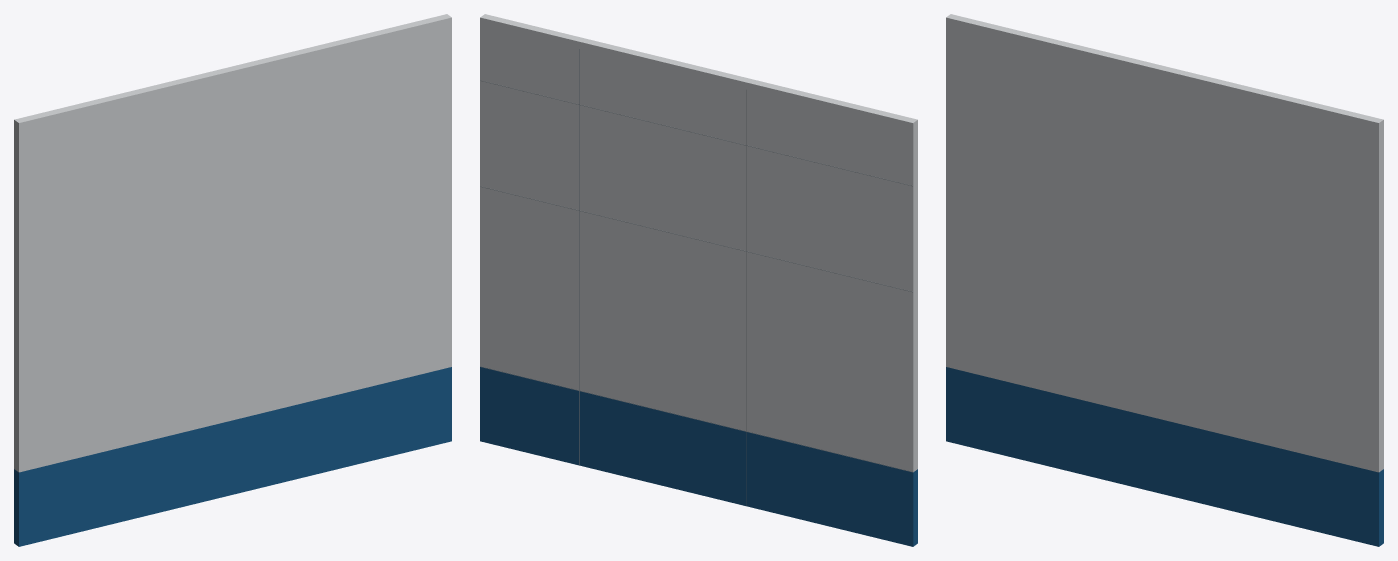
The model's file is SM_MPR3_Facade_04.fbx.
3 views of the same model, side by side, from view 1: azimuth 30°, elevation 25°; view 2: azimuth 150°, elevation 25°; view 3: azimuth 330°, elevation 25° (orthographic).
Visible parts, largest first — view 1: SM_MPR3_Facade_04; view 2: SM_MPR3_Facade_04; view 3: SM_MPR3_Facade_04.
Part boxes in pixels (x1=…): SM_MPR3_Facade_04: x1=14, y1=14, x2=451, y2=546; SM_MPR3_Facade_04: x1=480, y1=14, x2=917, y2=546; SM_MPR3_Facade_04: x1=946, y1=14, x2=1383, y2=546.
Bounding box in the file's own units: 1582 × 31.44 × 1480.
